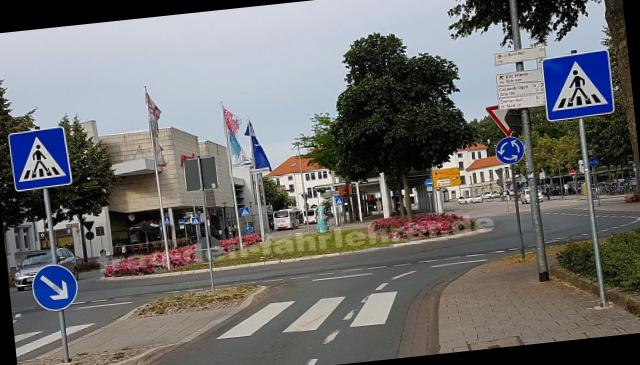crosswalk-sign: (541, 50, 617, 124), (9, 126, 74, 193)
